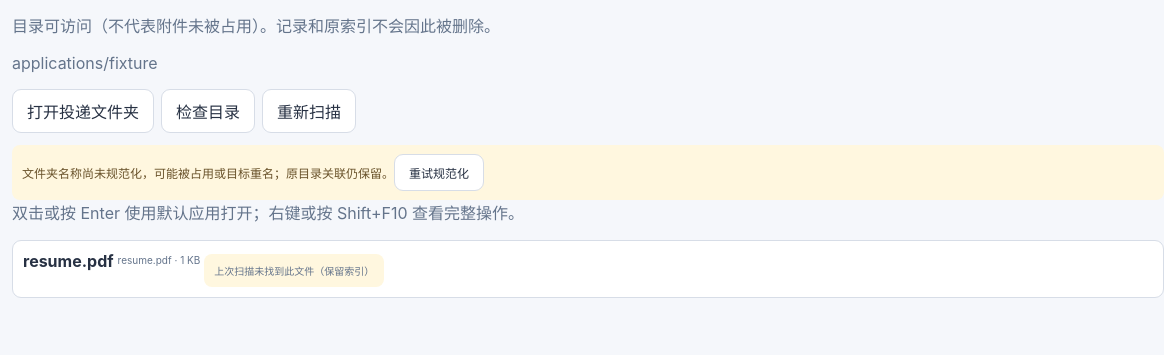
file health feedback › reports pending normalization accurately instead of claiming retry succeeded
The image size is (1164, 355).
Expected: the text "目录可访问（不代表附件未被占用）。记录和原索引不会因此被删除。" is shown, [12, 16, 500, 36]
What coordinates should you click on to do the following:
click the button "重试规范化"
I would click on:
 (439, 172)
Its box is [394, 154, 484, 191].
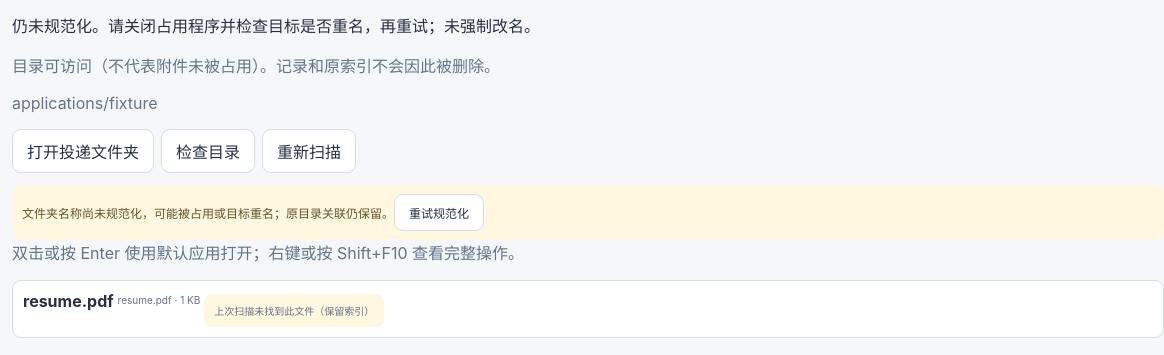
Expected: the text "仍未规范化。请关闭占用程序并检查目标是否重名，再重试；未强制改名。" is shown, [12, 16, 540, 36]
What coordinates should you click on to do the following:
click the button "重试规范化"
I would click on:
 (439, 212)
Its box is [394, 194, 484, 231].
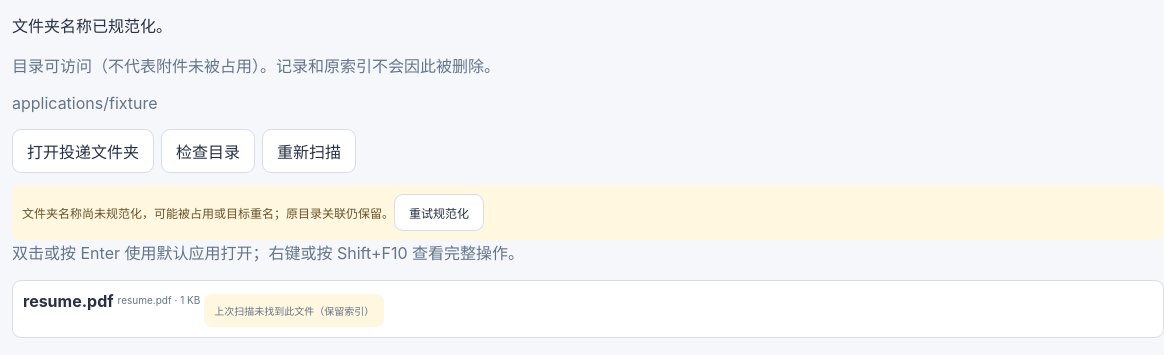
Expected: the text "文件夹名称已规范化。" is shown, [12, 16, 172, 36]
